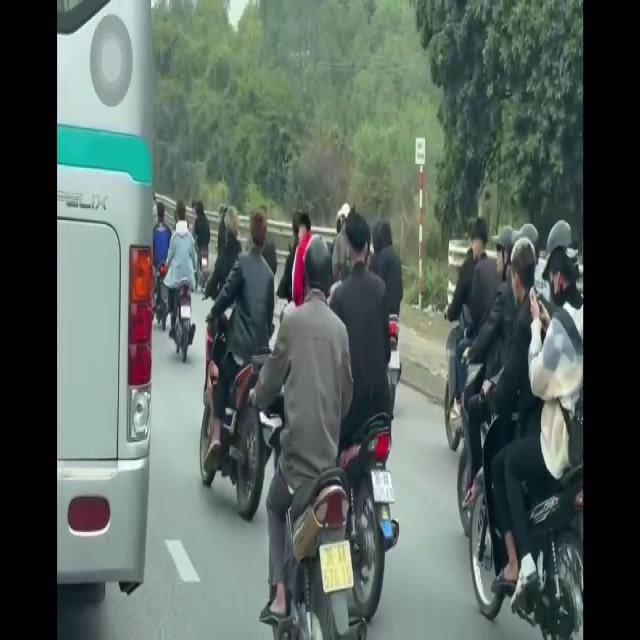helmet: (546, 222, 577, 322), (308, 230, 330, 314), (496, 216, 513, 293)
no_helmet: (471, 207, 489, 268)
